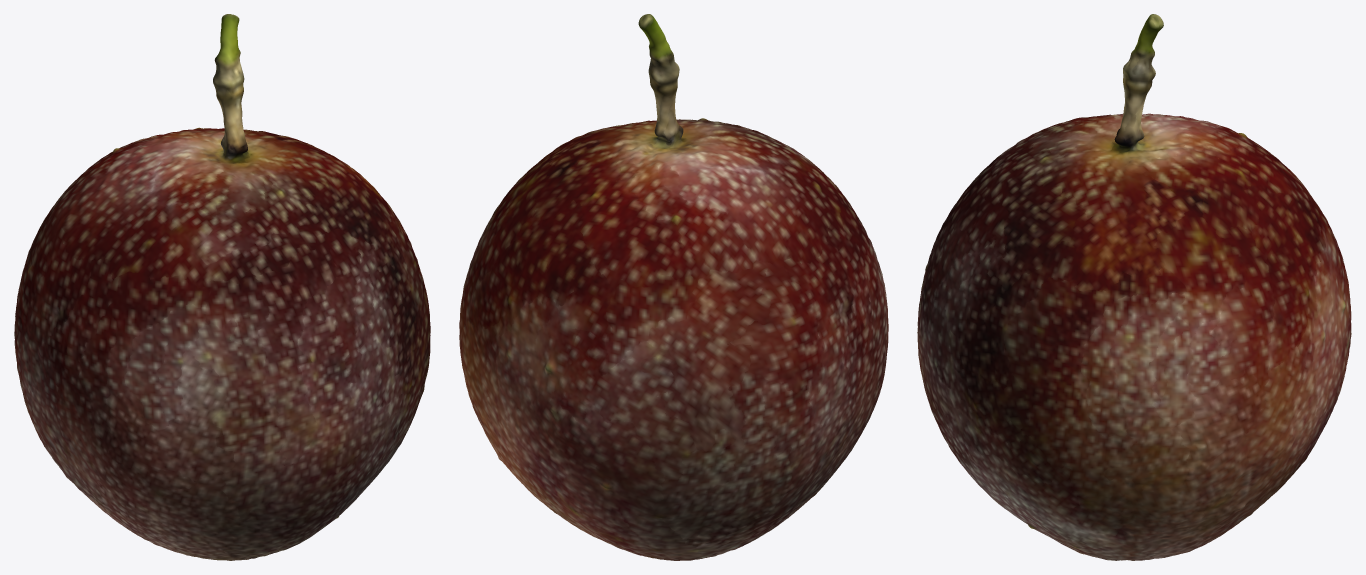
Rendered from passion.glb.
3 views of the same model, side by side, from view 1: azimuth 30°, elevation 25°; view 2: azimuth 150°, elevation 25°; view 3: azimuth 270°, elevation 25° (orthographic). The views are drawn at different scales.
Visible parts, largest first — view 1: Object_2, Object_3, Object_4; view 2: Object_3, Object_2, Object_4; view 3: Object_2, Object_3, Object_4.
Boxes of the visible parts, x1,y1,x2,y2 form: Object_2: (14,14,430,558); Object_3: (18,127,423,560); Object_4: (15,139,430,543); Object_3: (461,138,888,559); Object_2: (462,14,886,560); Object_4: (459,119,885,557); Object_2: (917,14,1351,560); Object_3: (917,113,1351,560); Object_4: (934,144,1351,557).
Size of the model in its own units: 2.07 by 2.86 by 2.11.
Materials: 1 (1 with a texture image).
